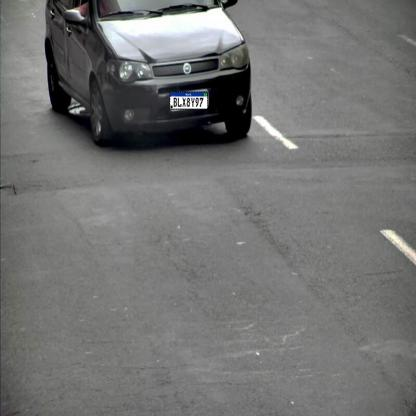PlacaM: (170, 92, 208, 110)
